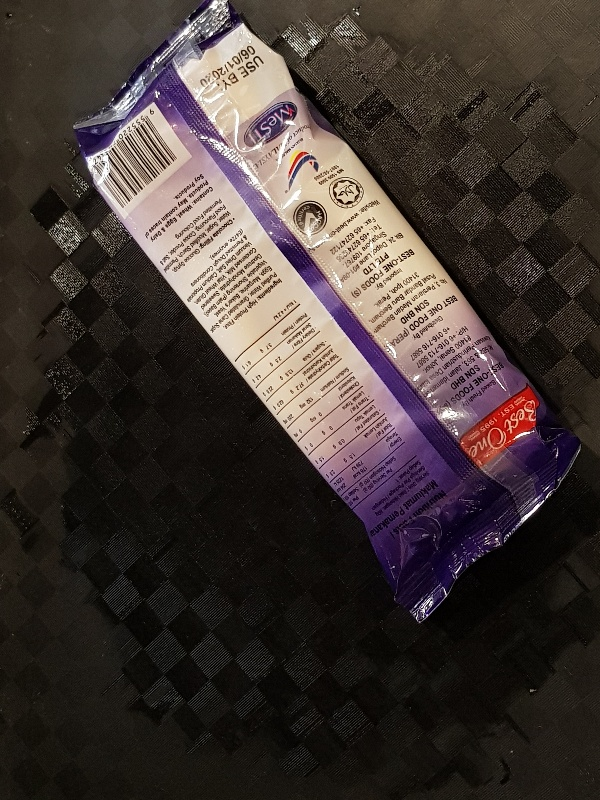Tinges Roll Chocolate: (72, 2, 585, 627)
